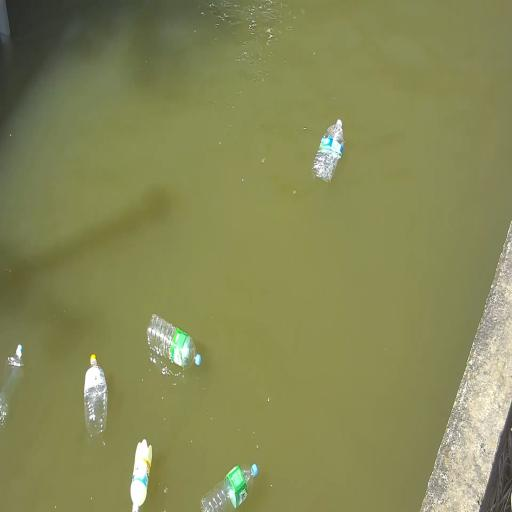plastic: (147, 314, 201, 369), (202, 464, 258, 511), (312, 119, 344, 182), (84, 354, 107, 438), (0, 345, 23, 426), (131, 439, 152, 511)
